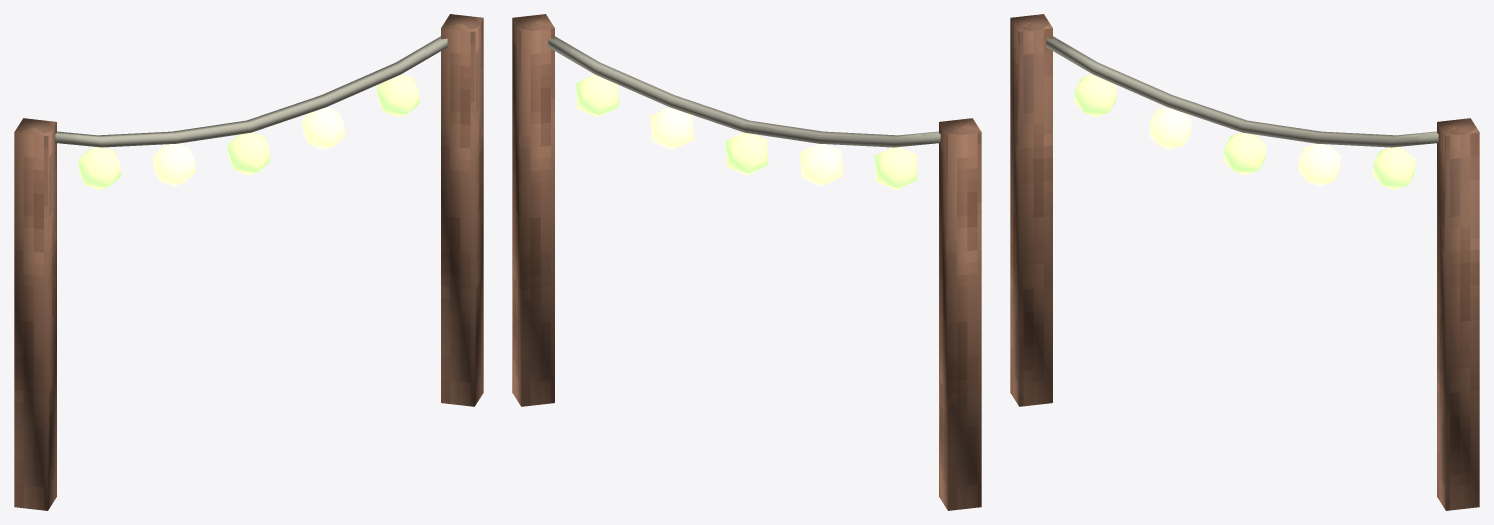
Rendered from IlluminationArch.gltf.
3 views of the same model, side by side, from view 1: azimuth 30°, elevation 25°; view 2: azimuth 150°, elevation 25°; view 3: azimuth 330°, elevation 25° (orthographic).
Parts seen in each view (by area): view 1: IlluminationArch; view 2: IlluminationArch; view 3: IlluminationArch.
Part boxes in pixels (x1,y1,x2,y2): IlluminationArch: [14, 14, 483, 510]; IlluminationArch: [512, 14, 981, 510]; IlluminationArch: [1010, 14, 1479, 510].
Size of the model in its own units: 17.14 by 13.08 by 1.56.
Materials: 2 (2 with a texture image).
